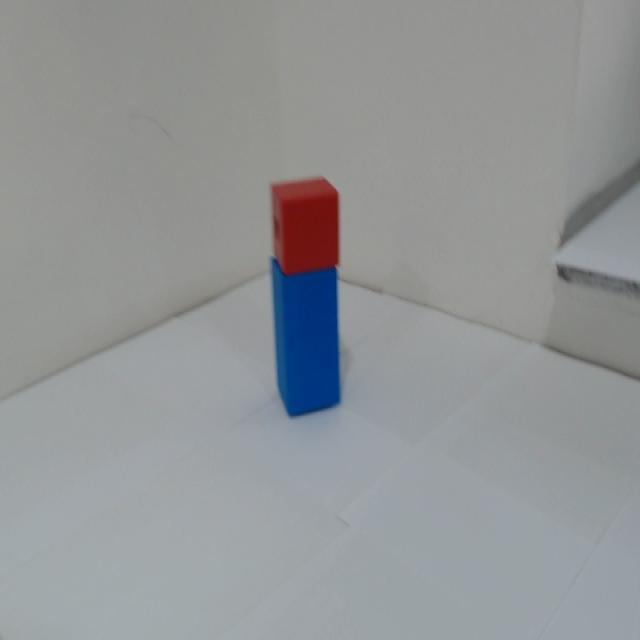cube: (262, 174, 363, 267)
